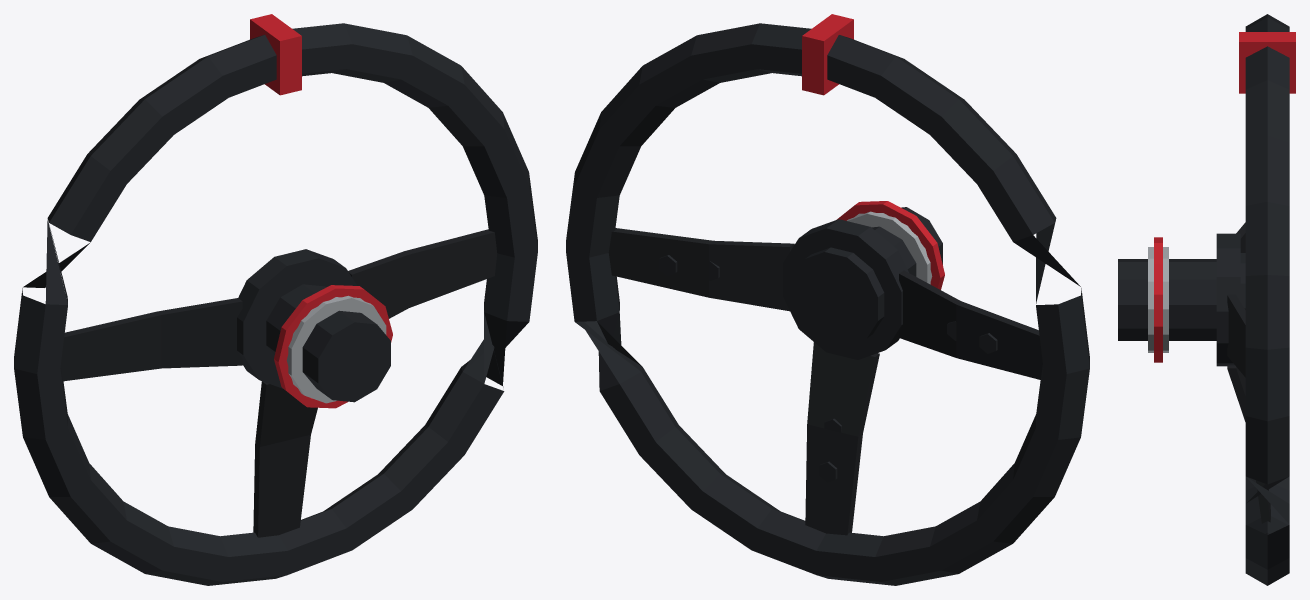
File: apex_v8.glb
3 views of the same model, side by side, from view 1: azimuth 30°, elevation 25°; view 2: azimuth 150°, elevation 25°; view 3: azimuth 270°, elevation 25° (orthographic). The views are drawn at different scales.
Visible parts, largest first — view 1: model; view 2: model; view 3: model.
Boxes of the visible parts, x1,y1,x2,y2 form: model: [14, 14, 537, 585]; model: [566, 14, 1089, 585]; model: [1118, 14, 1295, 585].
Size of the model in its own units: 0.384 by 0.386 by 0.119.
Materials: 3 (1 with a texture image).
